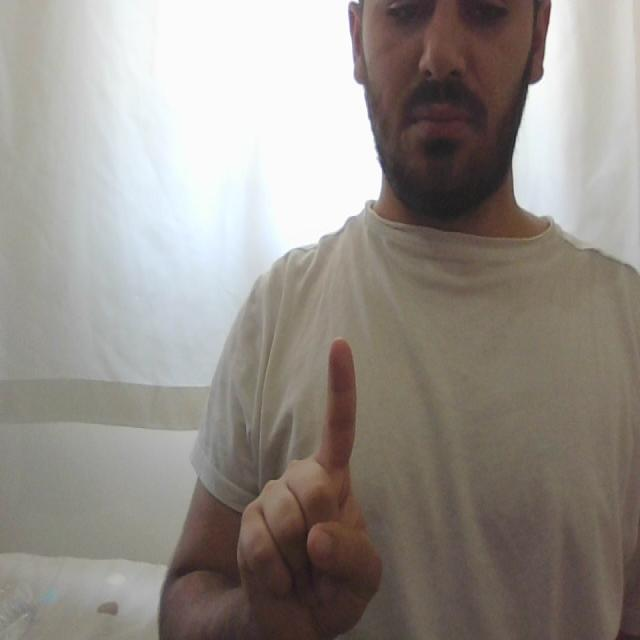Hayir: (224, 332, 394, 640)
